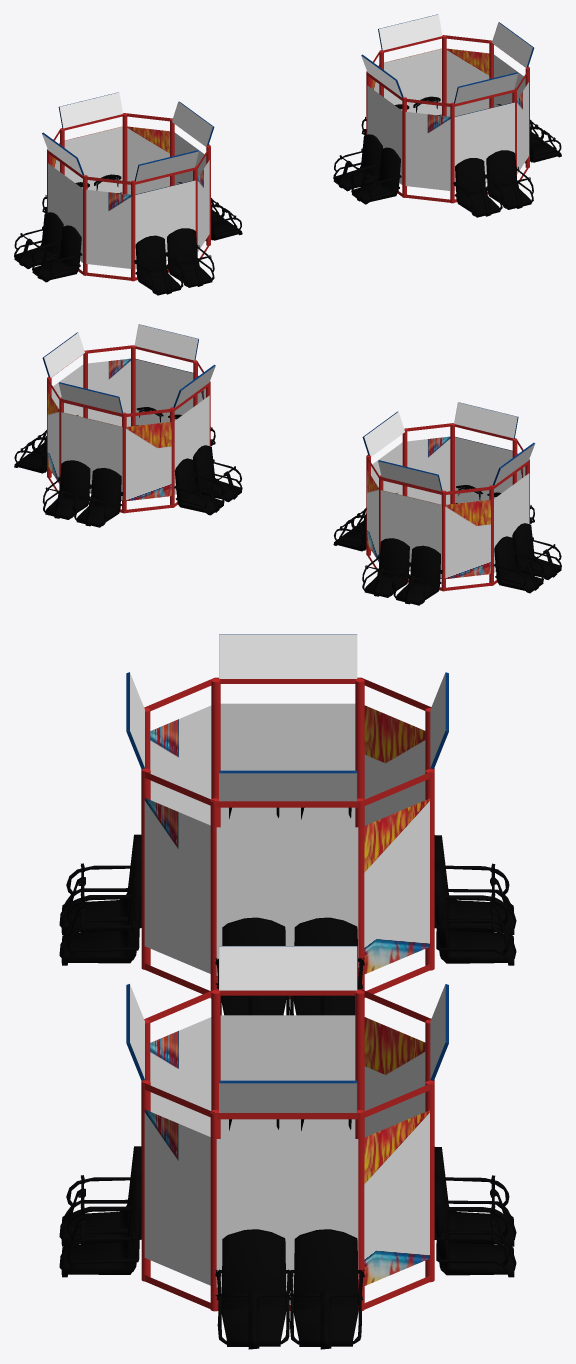
Rendered from cabina.obj.
3 renders of one model, top to bottom at view 1: azimuth 30°, elevation 25°; view 2: azimuth 150°, elevation 25°; view 3: azimuth 270°, elevation 25°, orthographic. The views are drawn at different scales.
Visible parts, largest first — view 1: group81 pasted__group55 pasted__pasted__pCube4 pasted__pasted__g, group81 pasted__pCube4 pasted__group45, group81 pasted__group55 pasted__pasted__pasted__pCube5 pasted__p, group81 pasted__group55 pasted__pasted__group45 pasted__pasted__, group81 silla18:Mesh, group81 pasted__group55 silla26:Mesh, group81 silla19:Mesh pasted__group51, group81 pasted__group55 silla27:Mesh pasted__pasted__group51, group81 pasted__pasted__group52 pasted__group54 silla25:Mesh pas, group81 pasted__group55 pasted__pasted__pasted__group52 pasted__, group81 silla24:Mesh pasted__pasted__group52 pasted__group54, group81 pasted__group55 silla32:Mesh pasted__pasted__pasted__gro (+11 smaller); view 2: group81 pasted__group55 pasted__pasted__pCube4 pasted__pasted__g, group81 pasted__pCube4 pasted__group45, group81 pasted__group55 pasted__pasted__pasted__pCube5 pasted__p, group81 pasted__group55 pasted__pasted__group45 pasted__pasted__, group81 pasted__group55 pasted__pasted__group53 silla31:Mesh pas, group81 pasted__group53 silla23:Mesh pasted__pasted__group51, group81 silla22:Mesh pasted__group53, group81 pasted__group55 silla30:Mesh pasted__pasted__group53, group81 silla24:Mesh pasted__pasted__group52 pasted__group54, group81 pasted__group55 silla32:Mesh pasted__pasted__pasted__gro, group81 pasted__pasted__group52 pasted__group54 silla25:Mesh pas, group81 pasted__group55 pasted__pasted__pasted__group52 pasted__ (+11 smaller); view 3: group81 pasted__pCube4 pasted__group45, group81 pasted__group55 pasted__pasted__pCube4 pasted__pasted__g, group81 pasted__group55 pasted__pasted__group45 pasted__pasted__, group81 pasted__group55 pasted__pasted__group52 silla29:Mesh pas, group81 pasted__group55 silla28:Mesh pasted__pasted__group52, group81 pasted__group55 pasted__pasted__pasted__pCube5 pasted__p, pasted__pCube5 group81, group81 pasted__pasted__pCube5 pasted__group55, group81 pasted__pasted__pCube5 pasted__group47, group81 silla19:Mesh pasted__group51, group81 pasted__group55 silla27:Mesh pasted__pasted__group51, group81 pasted__group55 silla30:Mesh pasted__pasted__group53 (+15 smaller).
Part boxes in pixels (x1,y1,x2,y2): group81 pasted__group55 pasted__pasted__pCube4 pasted__pasted__g: (367, 48, 528, 190); group81 pasted__pCube4 pasted__group45: (48, 126, 209, 268); group81 pasted__group55 pasted__pasted__pasted__pCube5 pasted__p: (378, 14, 534, 103); group81 pasted__group55 pasted__pasted__group45 pasted__pasted__: (366, 35, 529, 203); group81 silla18:Mesh: (134, 235, 183, 295); group81 pasted__group55 silla26:Mesh: (453, 158, 502, 217); group81 silla19:Mesh pasted__group51: (166, 228, 214, 287); group81 pasted__group55 silla27:Mesh pasted__pasted__group51: (486, 150, 533, 209); group81 pasted__pasted__group52 pasted__group54 silla25:Mesh pas: (32, 225, 82, 282); group81 pasted__group55 pasted__pasted__pasted__group52 pasted__: (351, 147, 401, 204); group81 silla24:Mesh pasted__pasted__group52 pasted__group54: (14, 212, 63, 268); group81 pasted__group55 silla32:Mesh pasted__pasted__pasted__gro: (333, 134, 382, 191); group81 pasted__group55 pasted__pasted__pCube4 pasted__pasted__g: (47, 358, 209, 501); group81 pasted__pCube4 pasted__group45: (367, 436, 529, 579); group81 pasted__group55 pasted__pasted__pasted__pCube5 pasted__p: (42, 324, 198, 413); group81 pasted__group55 pasted__pasted__group45 pasted__pasted__: (47, 345, 210, 513); group81 pasted__group55 pasted__pasted__group53 silla31:Mesh pas: (74, 468, 123, 527); group81 pasted__group53 silla23:Mesh pasted__pasted__group51: (393, 545, 442, 605); group81 silla22:Mesh pasted__group53: (362, 538, 410, 597); group81 pasted__group55 silla30:Mesh pasted__pasted__group53: (42, 460, 91, 519); group81 silla24:Mesh pasted__pasted__group52 pasted__group54: (493, 536, 543, 593); group81 pasted__group55 silla32:Mesh pasted__pasted__pasted__gro: (174, 458, 224, 515); group81 pasted__pasted__group52 pasted__group54 silla25:Mesh pas: (512, 523, 561, 579); group81 pasted__group55 pasted__pasted__pasted__group52 pasted__: (193, 445, 242, 502); group81 pasted__pCube4 pasted__group45: (144, 703, 429, 975); group81 pasted__group55 pasted__pasted__pCube4 pasted__pasted__g: (144, 1015, 429, 1287); group81 pasted__group55 pasted__pasted__group45 pasted__pasted__: (141, 989, 434, 1311); group81 pasted__group55 pasted__pasted__group52 silla29:Mesh pas: (287, 1229, 364, 1349); group81 pasted__group55 silla28:Mesh pasted__pasted__group52: (215, 1229, 292, 1349); group81 pasted__group55 pasted__pasted__pasted__pCube5 pasted__p: (126, 984, 448, 1112); pasted__pCube5 group81: (219, 634, 357, 678); group81 pasted__pasted__pCube5 pasted__group55: (219, 946, 357, 990); group81 pasted__pasted__pCube5 pasted__group47: (219, 770, 357, 801); group81 silla19:Mesh pasted__group51: (59, 865, 141, 965); group81 pasted__group55 silla27:Mesh pasted__pasted__group51: (59, 1177, 141, 1277); group81 pasted__group55 silla30:Mesh pasted__pasted__group53: (434, 1177, 516, 1277).
Bounding box in the file's own units: 13.02 × 2.89 × 4.98.
